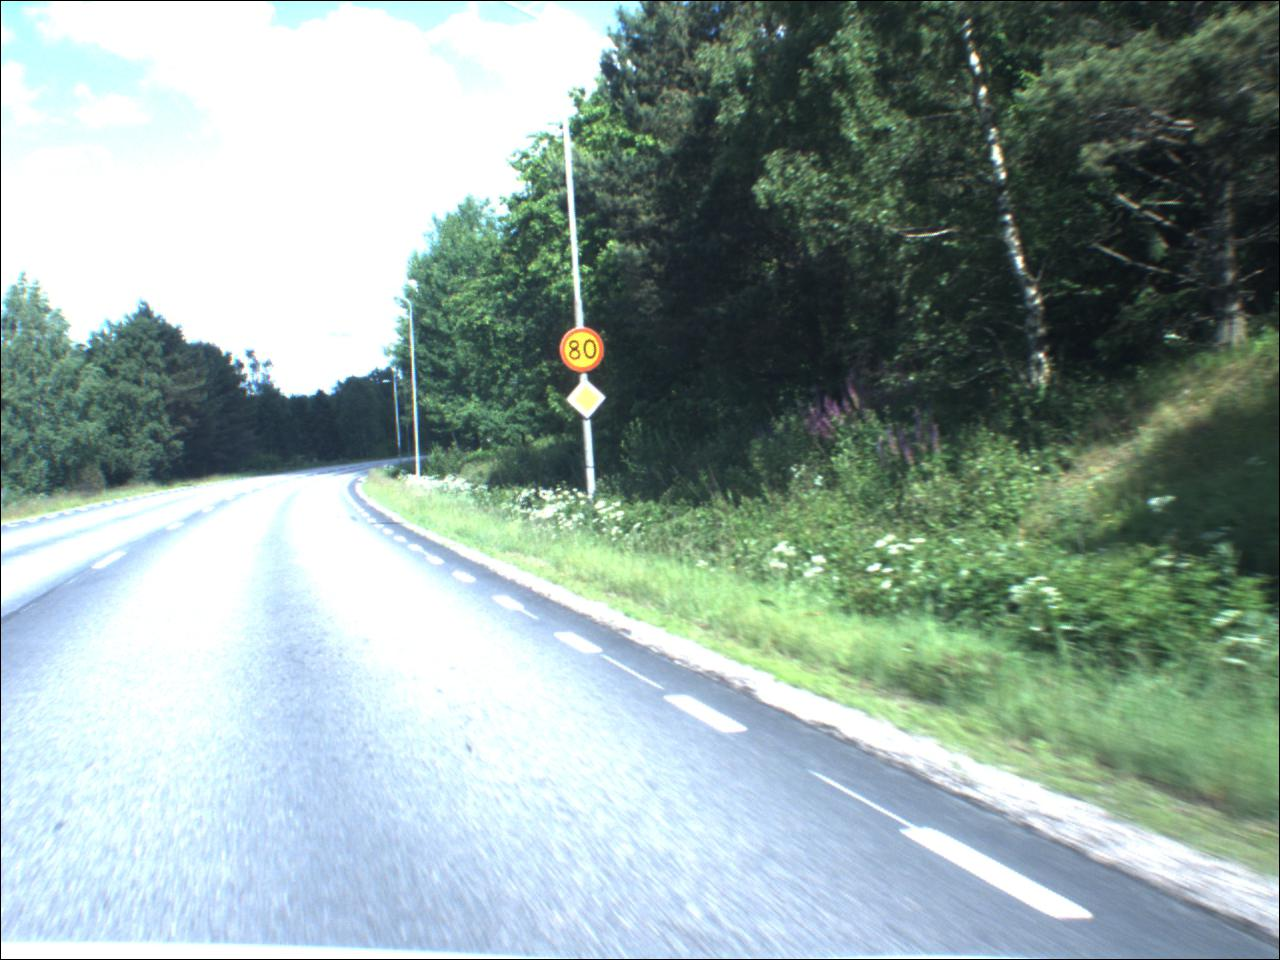80_SIGN: (561, 330, 606, 374)
PRIORITY_ROAD: (567, 380, 609, 421)
